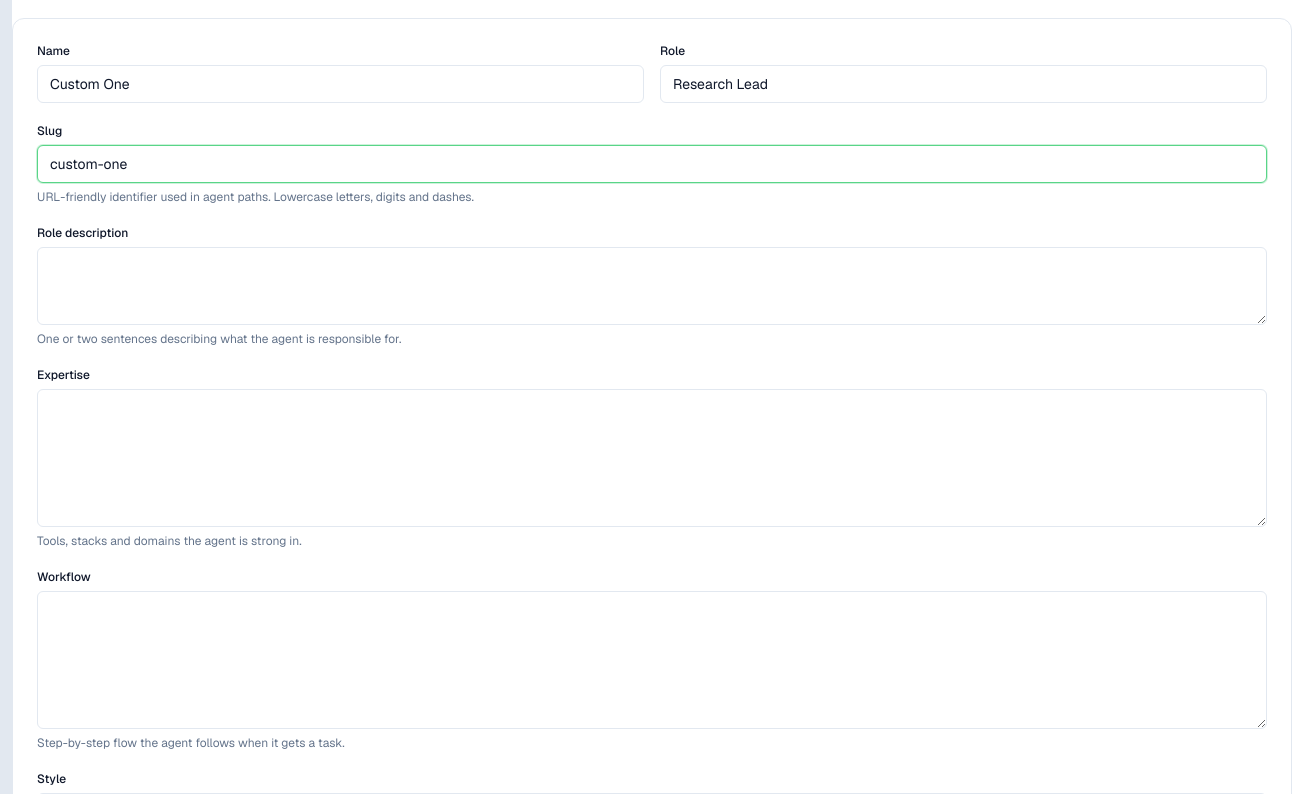
Scenario: AgentFromScratchFormPage › should render an inline alert when the server returns 409 agent limit reached
Earlier steps of the test are not shown.
Type "Keeps all research threads connected." into the text box labelled "Role description".
click(652, 286); type("Keeps all research threads connected.")  # box [37, 247, 1267, 325]
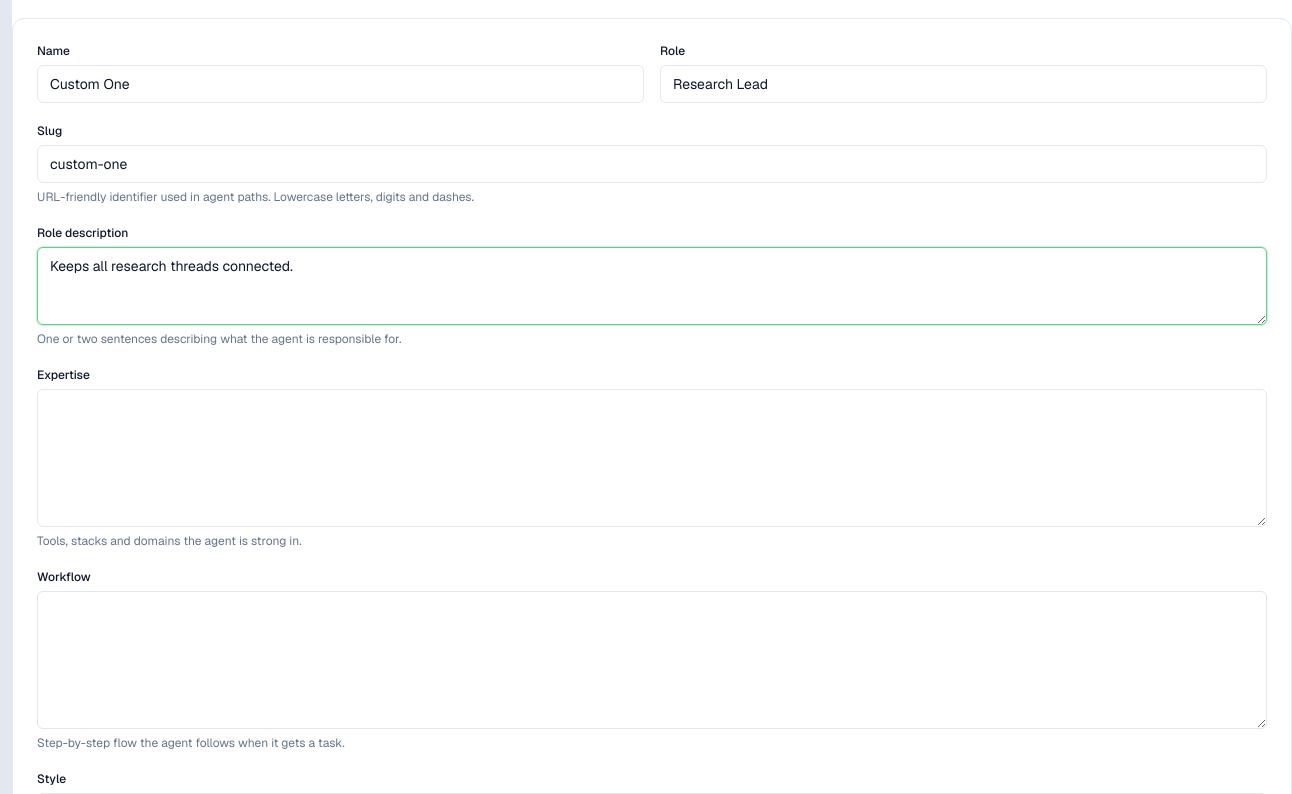
Type "Discovery, interviews, synthesis." into the text box labelled "Expertise".
click(652, 458); type("Discovery, interviews, synthesis.")  # box [37, 389, 1267, 527]
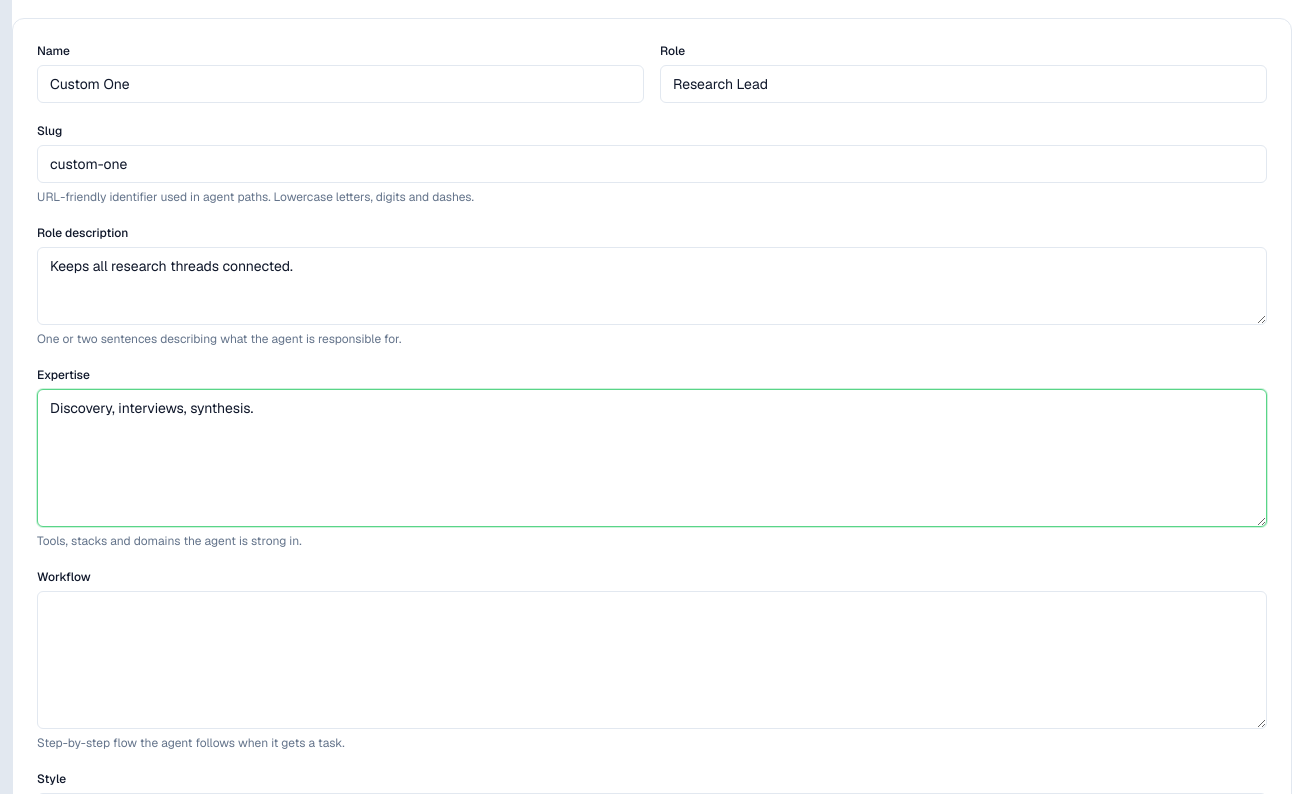
Type "Plan, interview, synthesize, report." into the text box labelled "Workflow".
click(652, 660); type("Plan, interview, synthesize, report.")  # box [37, 591, 1267, 729]
(page scrolled)
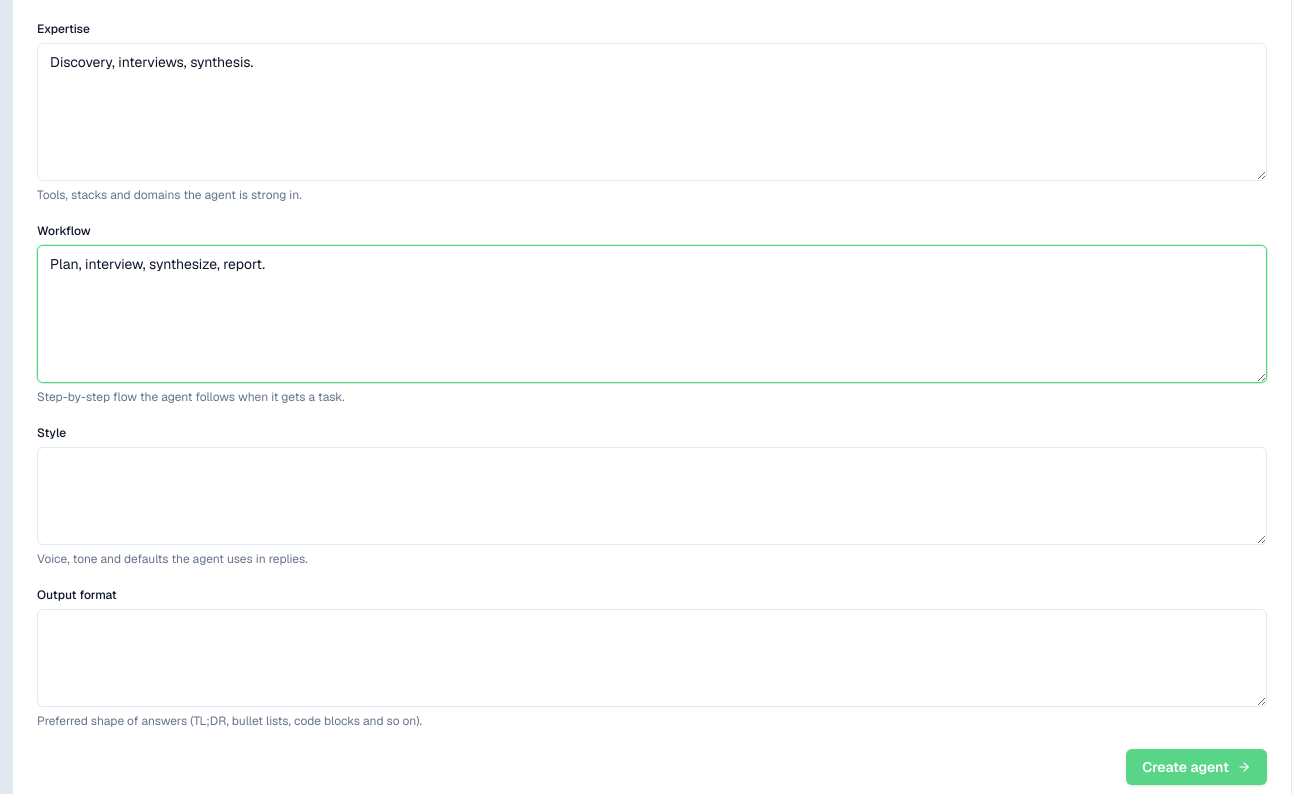
Type "Curious and precise." into the text box labelled "Style".
click(652, 496); type("Curious and precise.")  # box [37, 447, 1267, 545]
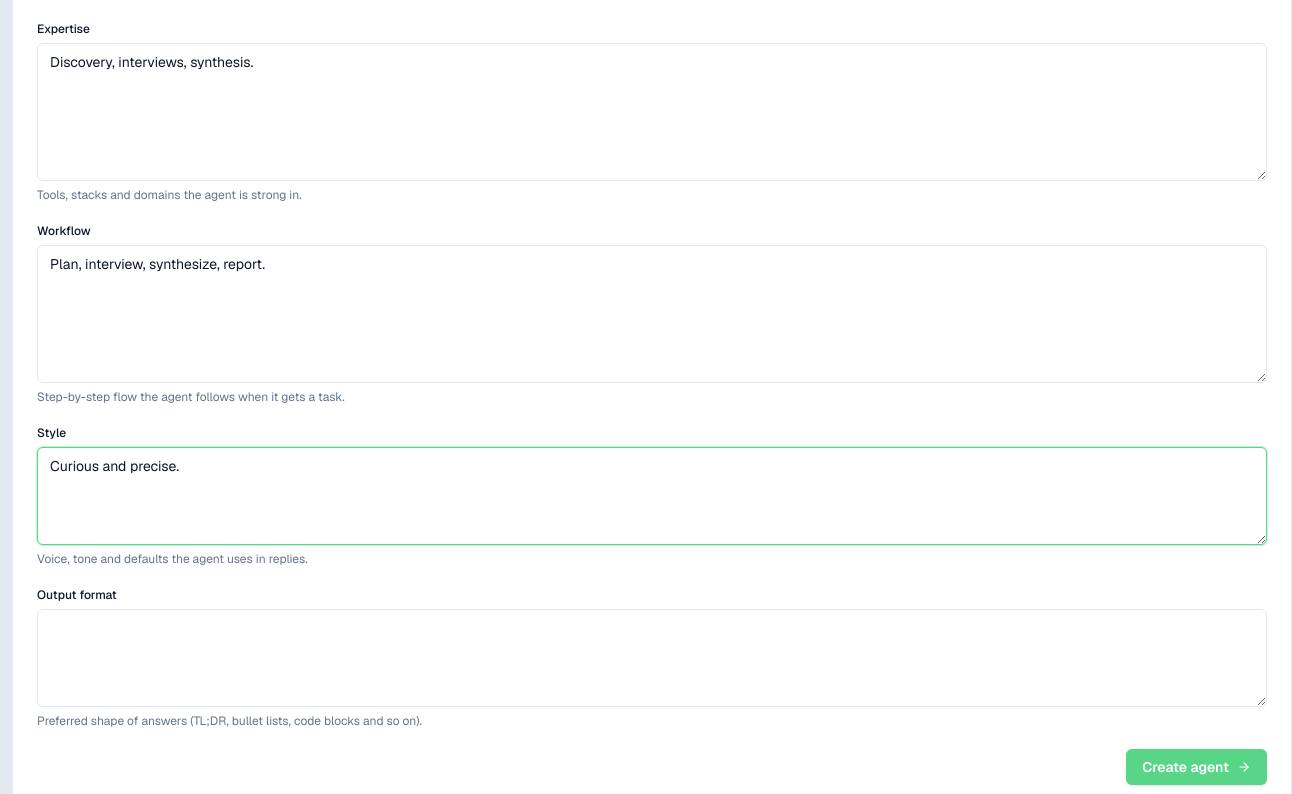
Type "TL;DR + highlights + raw notes." into the text box labelled "Output format".
click(652, 658); type("TL;DR + highlights + raw notes.")  # box [37, 609, 1267, 707]
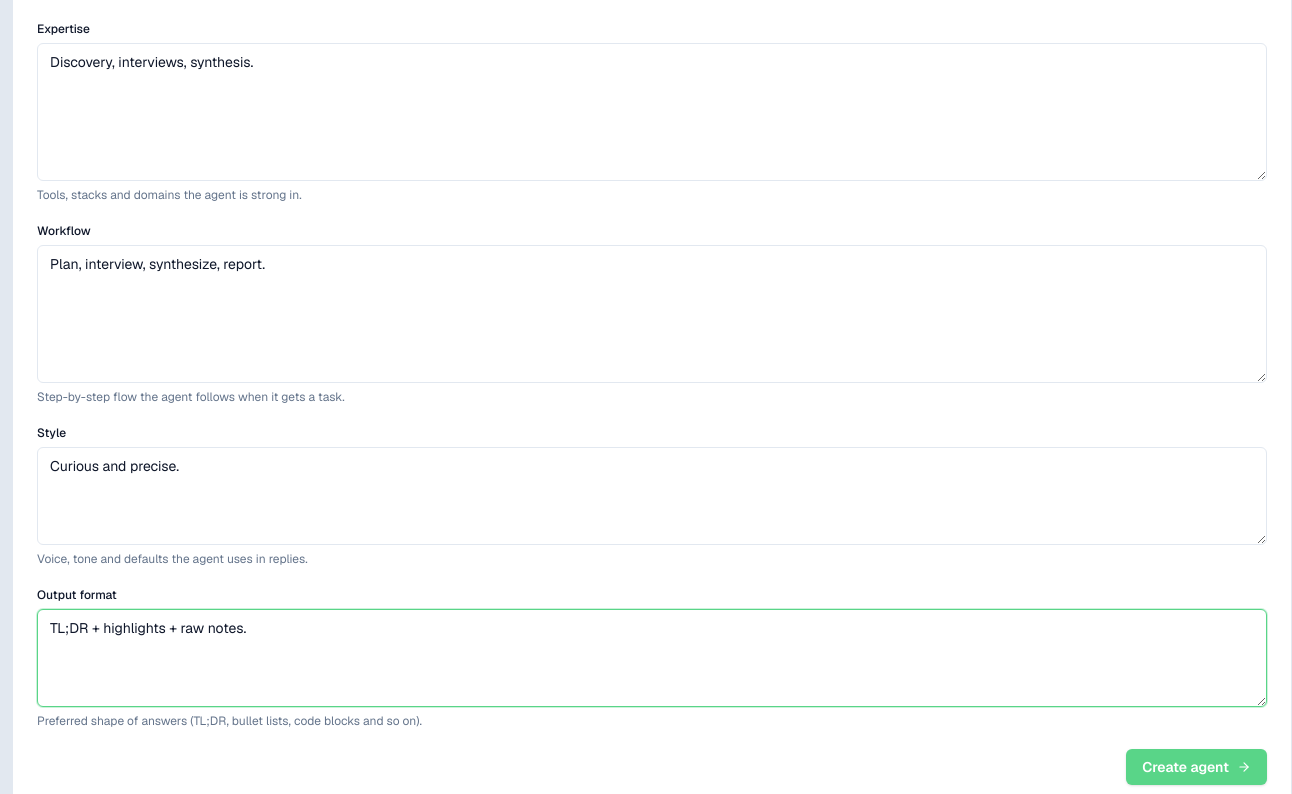
Click the button "Create agent".
click(1197, 767)  # box [1126, 749, 1267, 785]
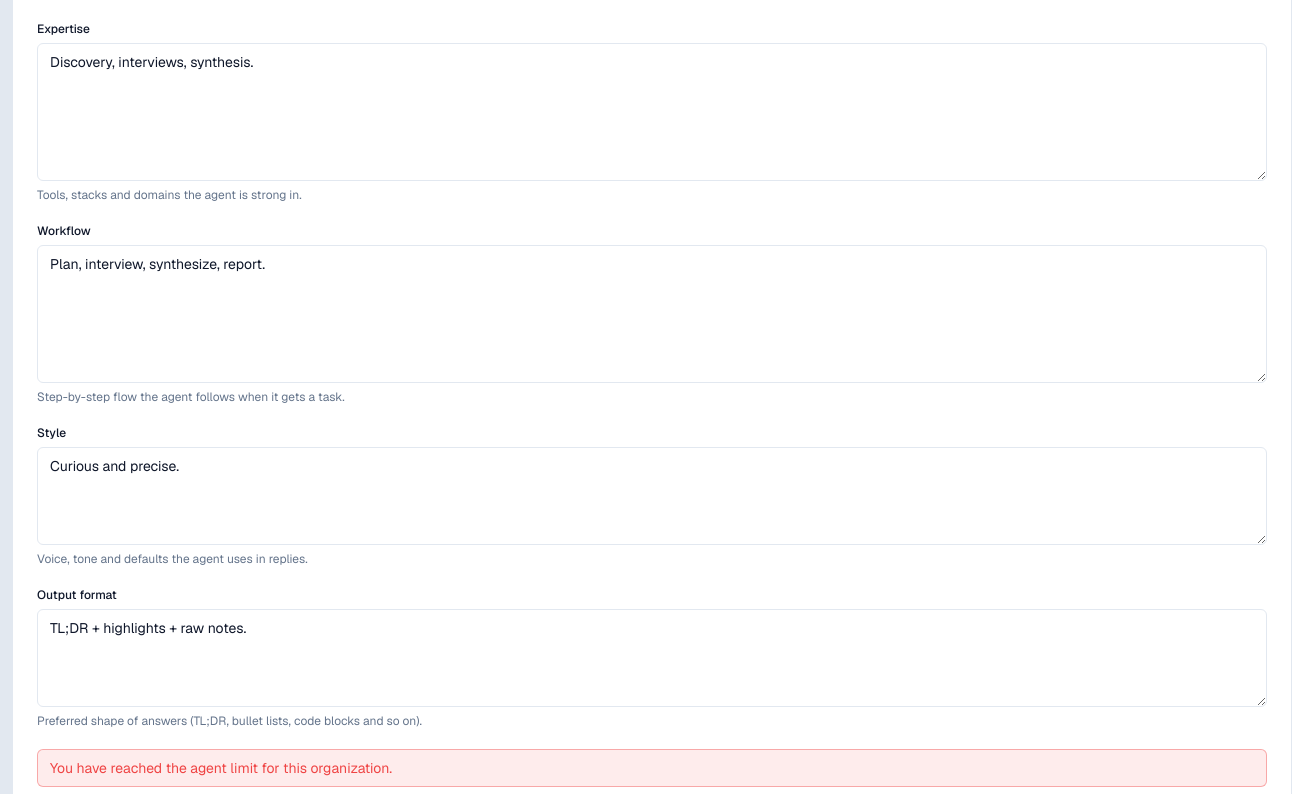
Now the text "You have reached the agent limit for this organization." is shown, box [37, 749, 1267, 787]
